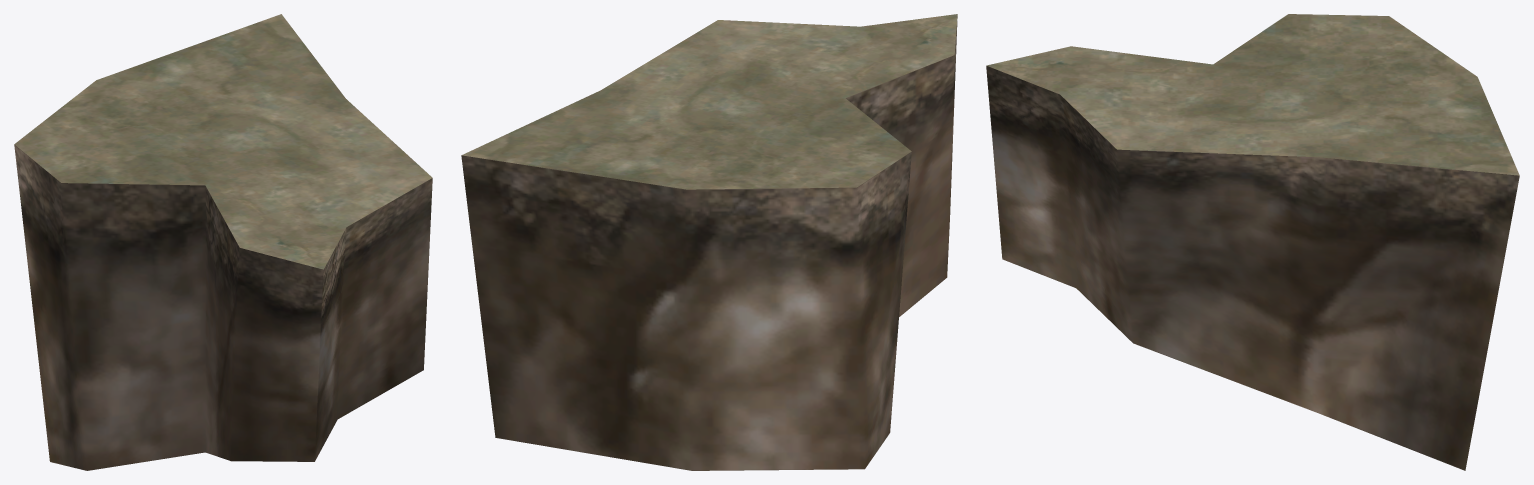
The model's file is ANIMATEDINSTANCES_ROCKFALL_04__BA.fbx.
3 views of the same model, side by side, from view 1: azimuth 30°, elevation 25°; view 2: azimuth 150°, elevation 25°; view 3: azimuth 270°, elevation 25° (orthographic). The views are drawn at different scales.
Visible parts, largest first — view 1: ANIMATEDINSTANCES_ROCKFALL_04__BA; view 2: ANIMATEDINSTANCES_ROCKFALL_04__BA; view 3: ANIMATEDINSTANCES_ROCKFALL_04__BA.
Boxes of the visible parts, x1=… form: ANIMATEDINSTANCES_ROCKFALL_04__BA: x1=14, y1=14, x2=432, y2=470; ANIMATEDINSTANCES_ROCKFALL_04__BA: x1=461, y1=14, x2=957, y2=470; ANIMATEDINSTANCES_ROCKFALL_04__BA: x1=986, y1=14, x2=1519, y2=470.
Bounding box in the file's own units: 13579 × 11693 × 18943.
2 materials, 2 textured.
